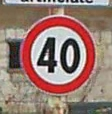limite 40: (16, 12, 97, 96)
